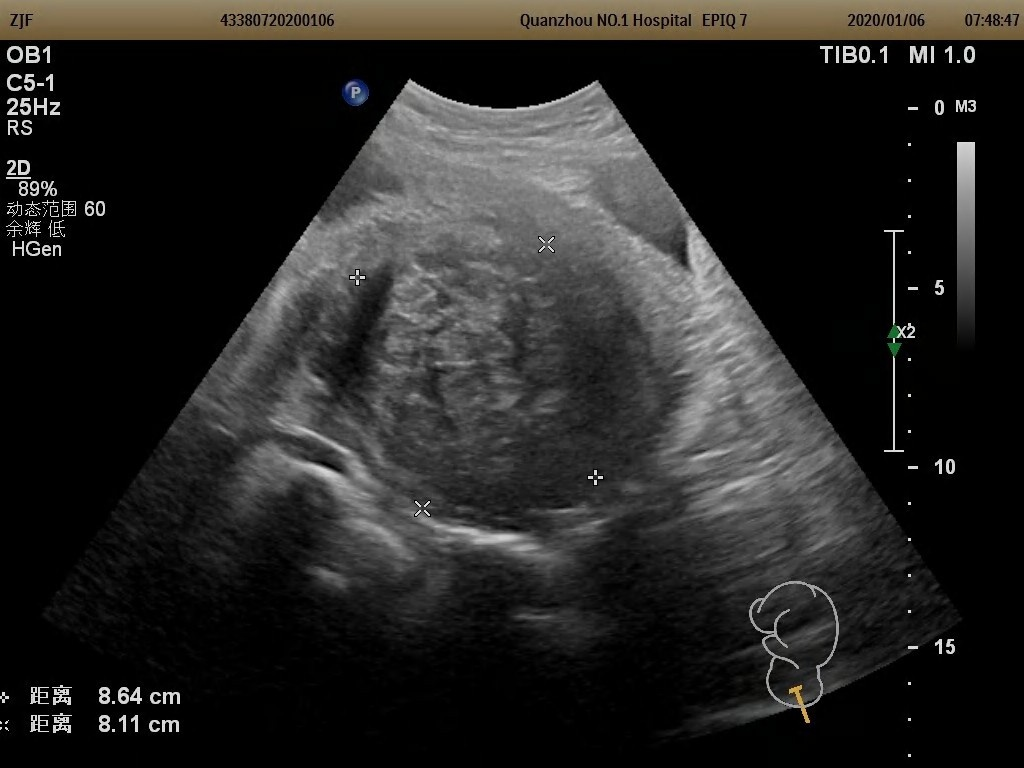肌瘤: (356, 246, 601, 516)
